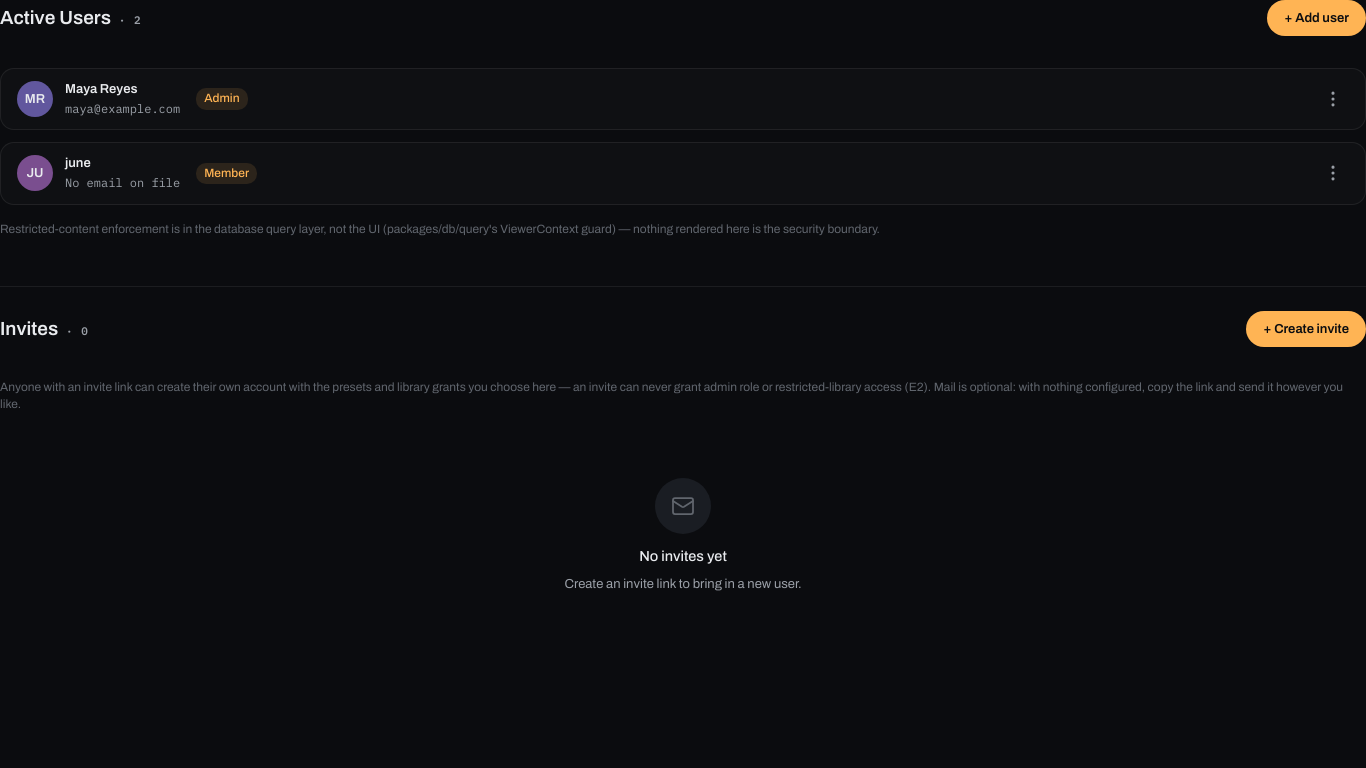
Test case: UsersSection — Lane D additions › browser-admin-F5: EditUserModal renders the server's 409 detail sentence, never the bare problem title
Click the button named "Manage june": [1333, 173] box [1317,157,1349,189]
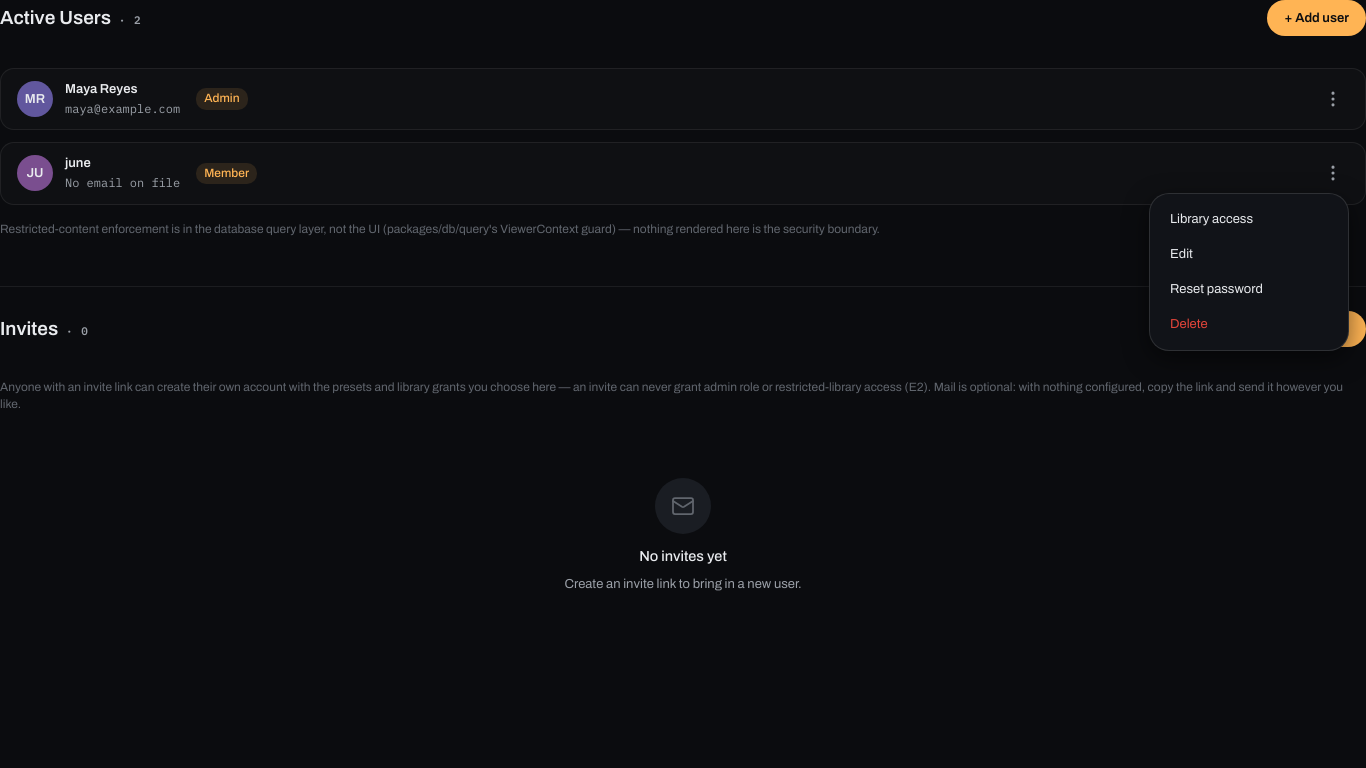
Click the menu item "Edit": [1249, 255] box [1158,237,1340,272]
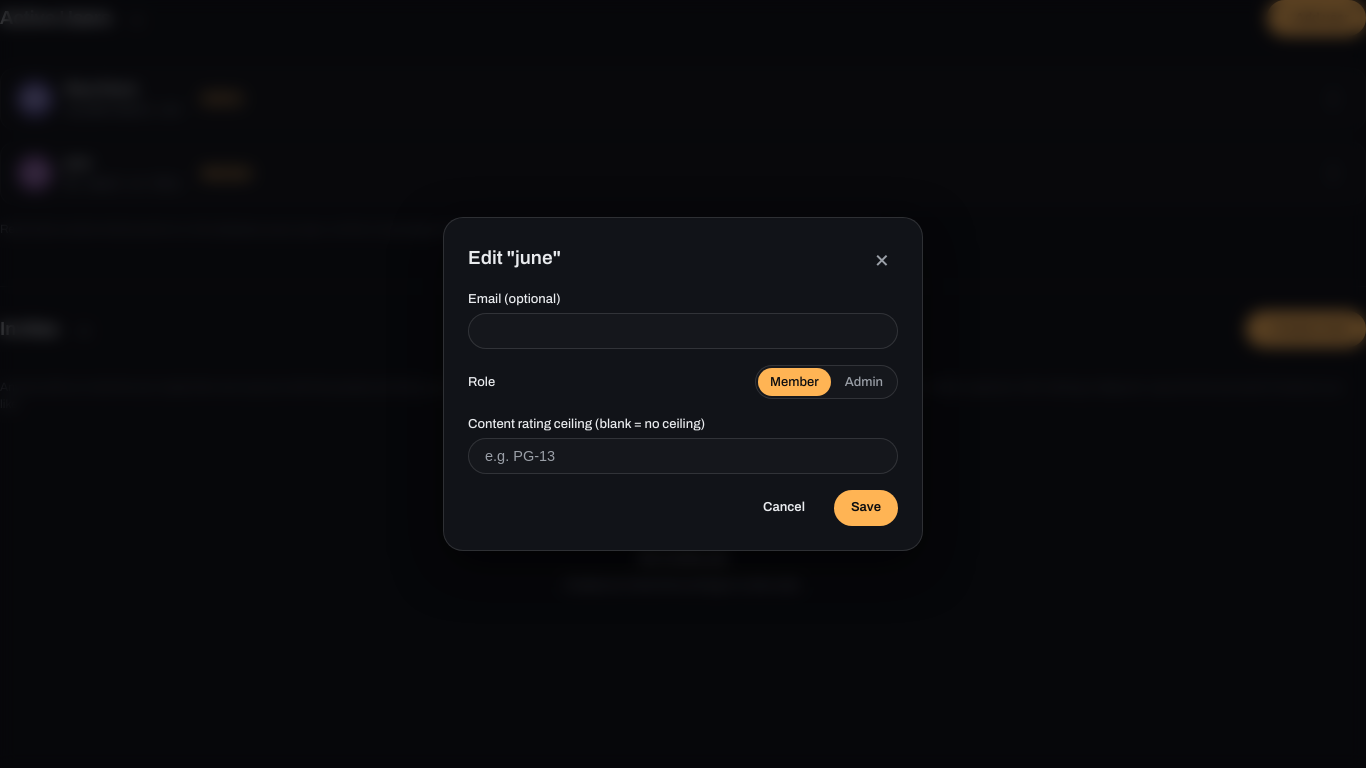
Click the button "Save": [866, 508] box [834,490,898,526]
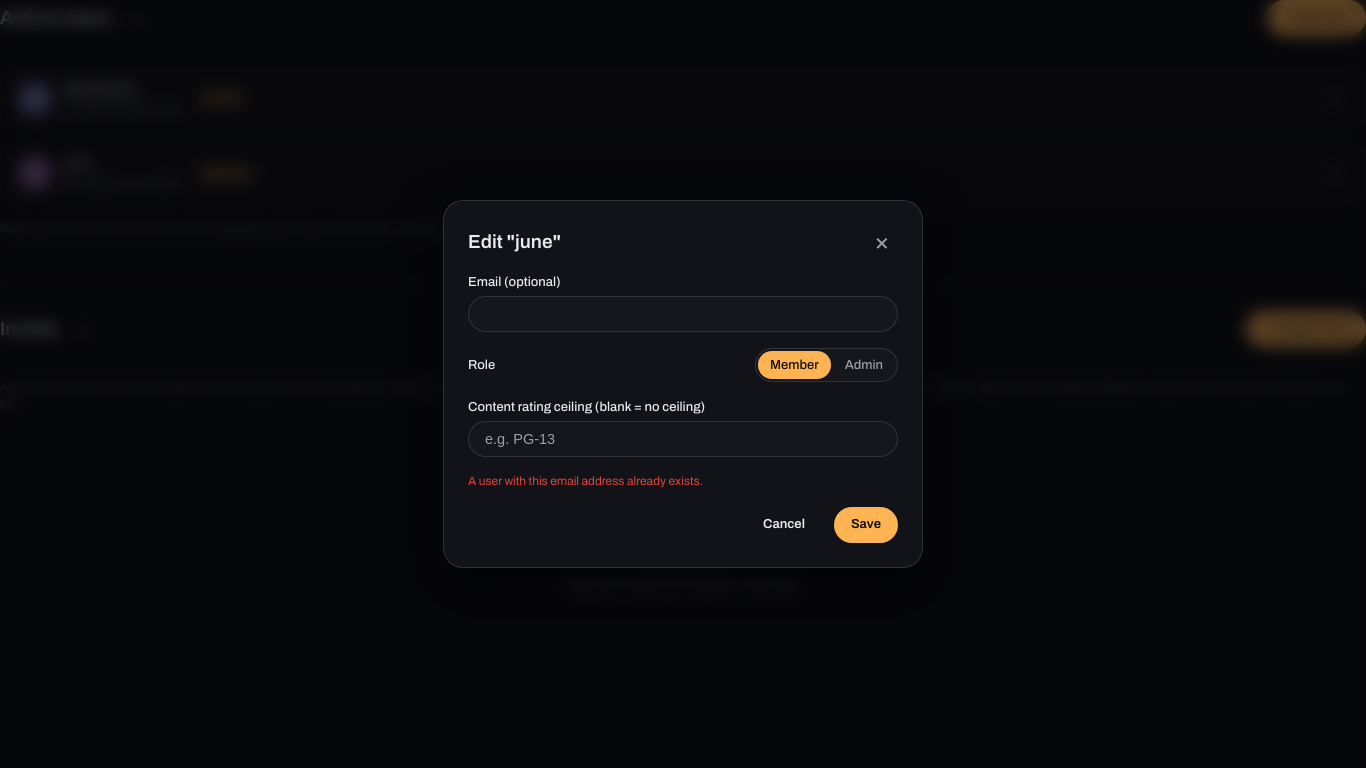
Result: the text "A user with this email address already exists." is shown at [468,474,703,488]
